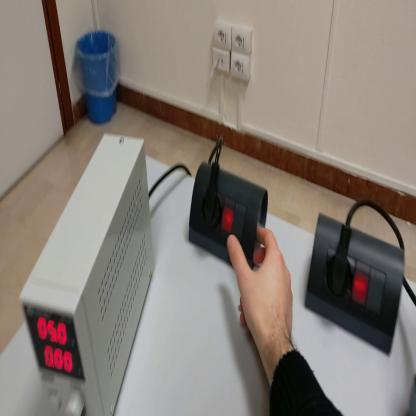hand: (228, 223, 295, 353)
oscilloscope: (409, 377, 416, 413)
power supply: (23, 135, 156, 416)
socket: (308, 216, 407, 358), (188, 159, 269, 271)
